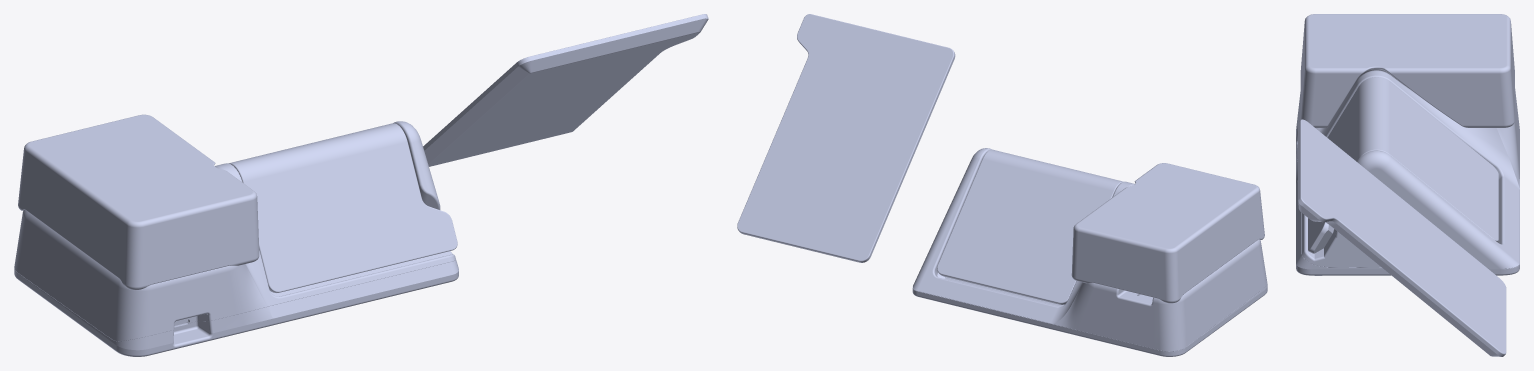
The model's file is assembly-exploded.glb.
3 views of the same model, side by side, from view 1: azimuth 30°, elevation 25°; view 2: azimuth 150°, elevation 25°; view 3: azimuth 270°, elevation 25° (orthographic). The views are drawn at different scales.
Parts seen in each view (by area): view 1: 盒子覆盖修复布尔运算版本-1, 屏幕2-1, 生产分件-上盖-1, 屏幕展平-1, 生产分件-下盖-1; view 2: 屏幕展平-1, 盒子覆盖修复布尔运算版本-1, 屏幕2-1, 生产分件-上盖-1, 生产分件-下盖-1; view 3: 盒子覆盖修复布尔运算版本-1, 屏幕展平-1, 屏幕2-1, 生产分件-上盖-1, 生产分件-下盖-1.
Boxes of the visible parts, box(x1,y1,x2,y2) form: 盒子覆盖修复布尔运算版本-1: box(18, 114, 259, 290); 屏幕2-1: box(228, 123, 457, 292); 生产分件-上盖-1: box(14, 121, 455, 341); 屏幕展平-1: box(423, 14, 708, 166); 生产分件-下盖-1: box(14, 260, 458, 356); 屏幕展平-1: box(737, 14, 955, 262); 盒子覆盖修复布尔运算版本-1: box(1071, 163, 1264, 303); 屏幕2-1: box(937, 149, 1123, 304); 生产分件-上盖-1: box(913, 148, 1266, 351); 生产分件-下盖-1: box(912, 279, 1267, 356); 盒子覆盖修复布尔运算版本-1: box(1300, 14, 1514, 127); 屏幕展平-1: box(1298, 119, 1506, 356); 屏幕2-1: box(1308, 77, 1498, 253); 生产分件-上盖-1: box(1297, 70, 1519, 268); 生产分件-下盖-1: box(1296, 120, 1519, 275).
Bounding box in the file's own units: 0.274 × 0.0927 × 0.1.
